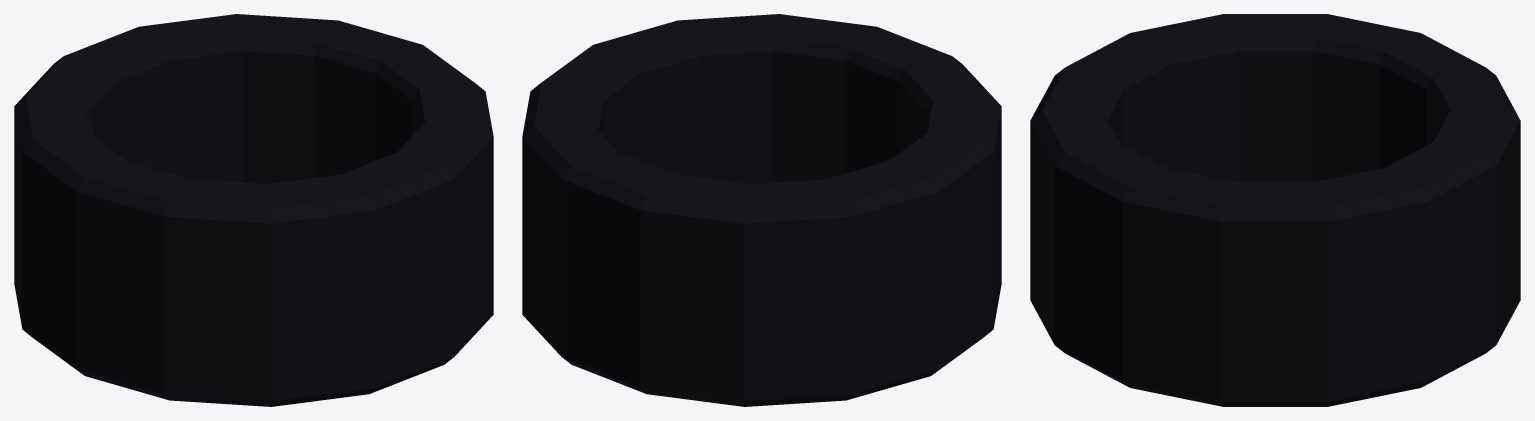
File: Tire.fbx
3 renders of one model, left to right at view 1: azimuth 30°, elevation 25°; view 2: azimuth 150°, elevation 25°; view 3: azimuth 270°, elevation 25°, orthographic.
Parts seen in each view (by area): view 1: Tire; view 2: Tire; view 3: Tire.
Part boxes in pixels (x1,y1,x2,y2): Tire: (14,14,493,406); Tire: (522,14,1001,406); Tire: (1030,14,1520,406).
Bounding box in the file's own units: 0.5686 × 0.2637 × 0.5832.
